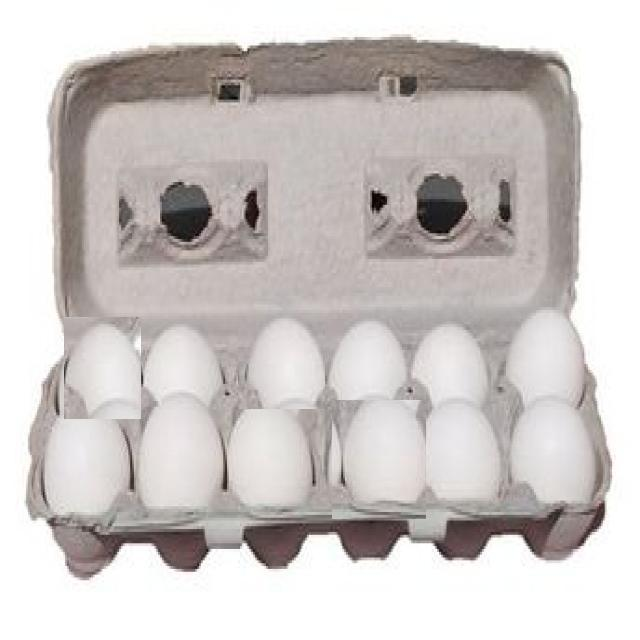Egg: (144, 394, 227, 536), (332, 400, 426, 519), (42, 402, 132, 519), (514, 303, 600, 408), (238, 315, 325, 409), (64, 317, 141, 419)
